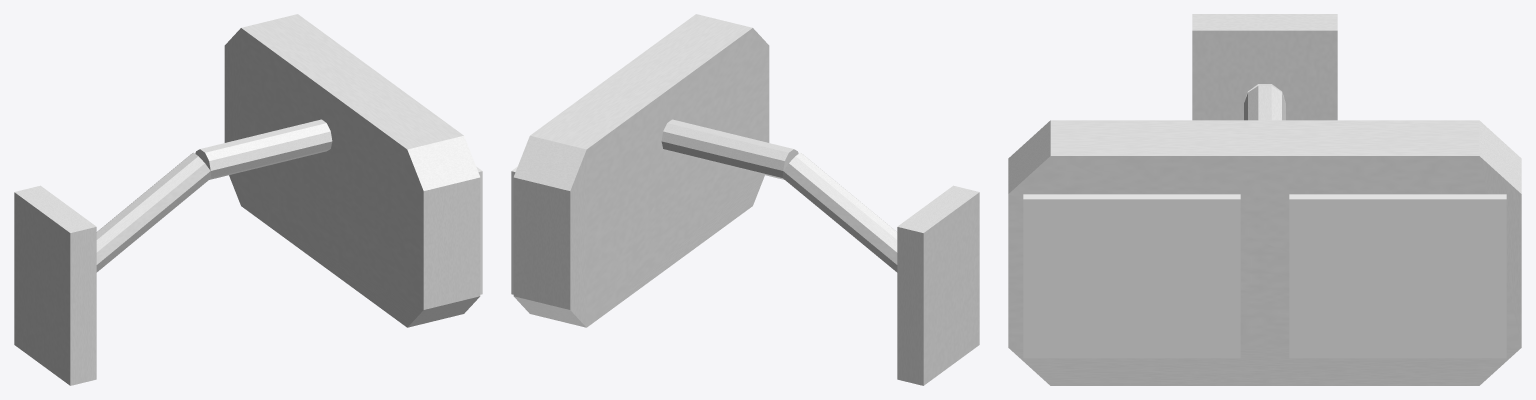
File: industrialyardlight.obj
The picture shows the model from 3 angles, left to right: view 1: azimuth 30°, elevation 25°; view 2: azimuth 150°, elevation 25°; view 3: azimuth 270°, elevation 25°; orthographic projection. The views are drawn at different scales.
Visible parts, largest first — view 1: Metal, Base; view 2: Metal, Base; view 3: Metal, Light0, Light1, Base.
Boxes of the visible parts, x1=… form: Metal: x1=96, y1=14, x2=480, y2=327; Base: x1=14, y1=185, x2=96, y2=385; Metal: x1=513, y1=14, x2=897, y2=327; Base: x1=897, y1=185, x2=979, y2=385; Metal: x1=1008, y1=84, x2=1521, y2=385; Light0: x1=1289, y1=194, x2=1506, y2=358; Light1: x1=1023, y1=194, x2=1240, y2=358; Base: x1=1192, y1=14, x2=1337, y2=120.
Bounding box in the file's own units: 0.855 × 0.49 × 0.85.
